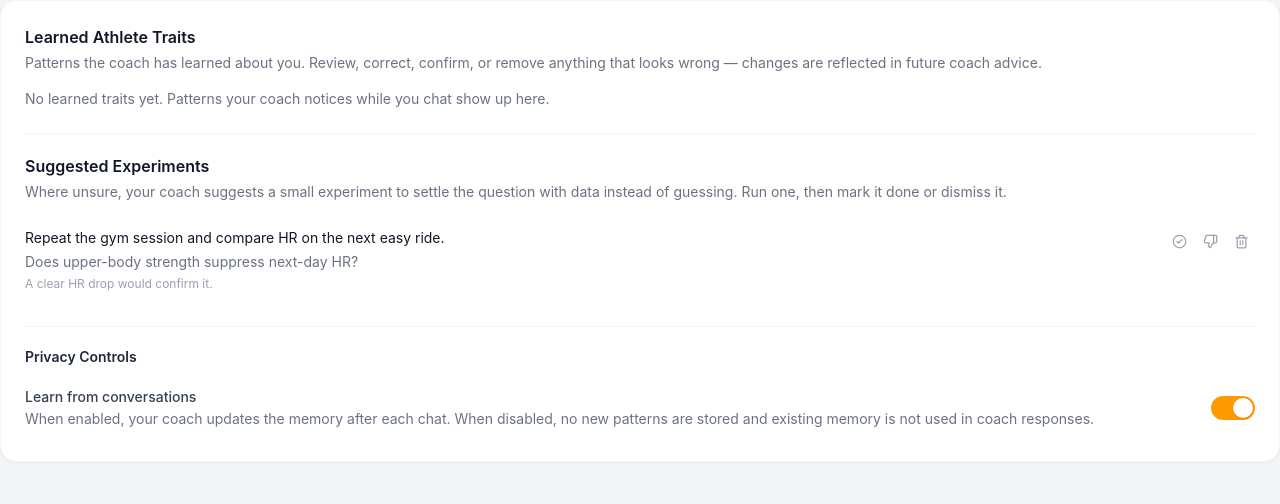
Test: AthleteTraitsSettings › surfaces an error when completing an experiment fails
Expected: the text "Repeat the gym session and compare HR on the next easy ride." is shown, [25, 228, 445, 248]
What coordinates should you click on to do the following:
click the button named "complete experiment"
I would click on:
 (1180, 242)
Its box is [1166, 228, 1193, 255].
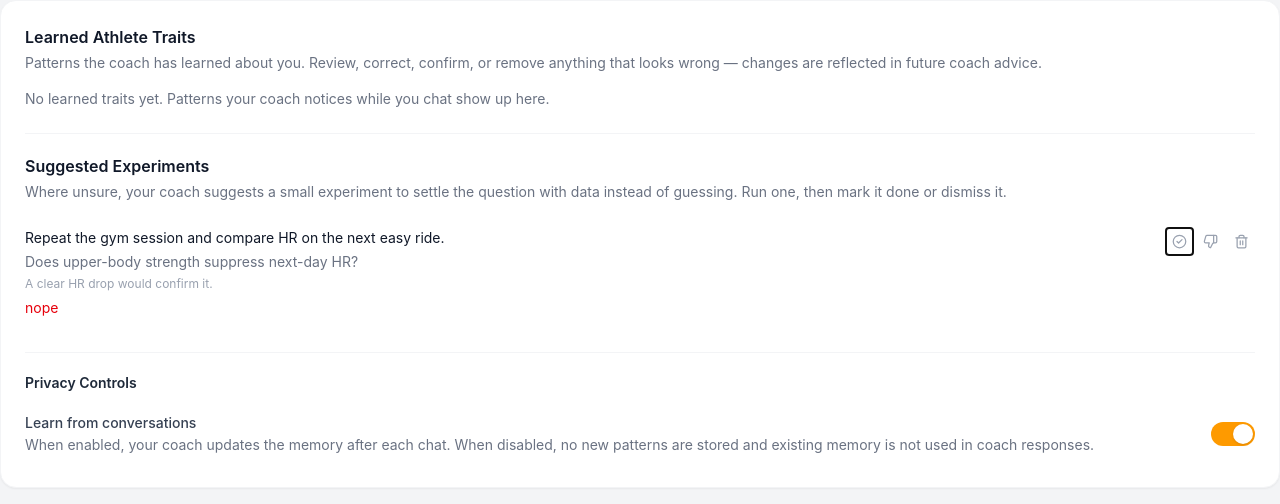
Now the text "nope" is shown, box [25, 299, 58, 316]
